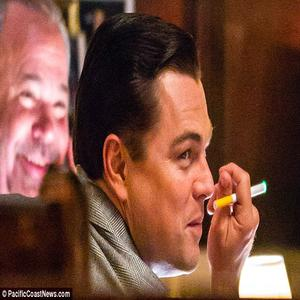cigarette: (211, 182, 267, 210)
